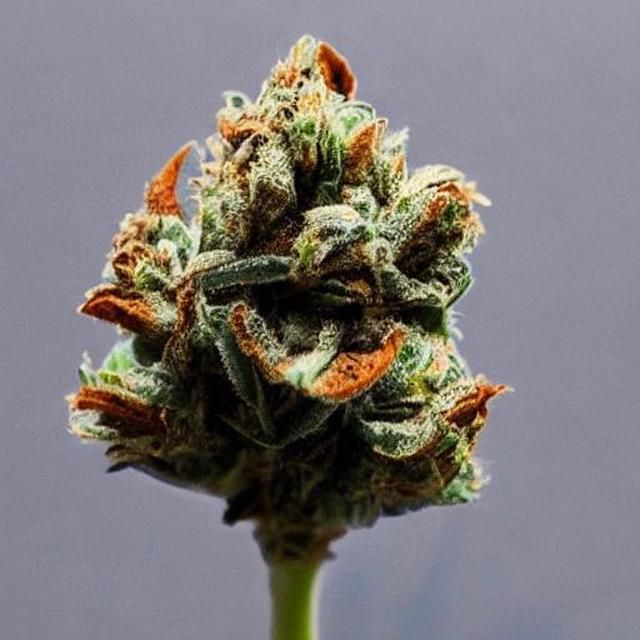Marijuana Joint: (6, 27, 625, 621)
